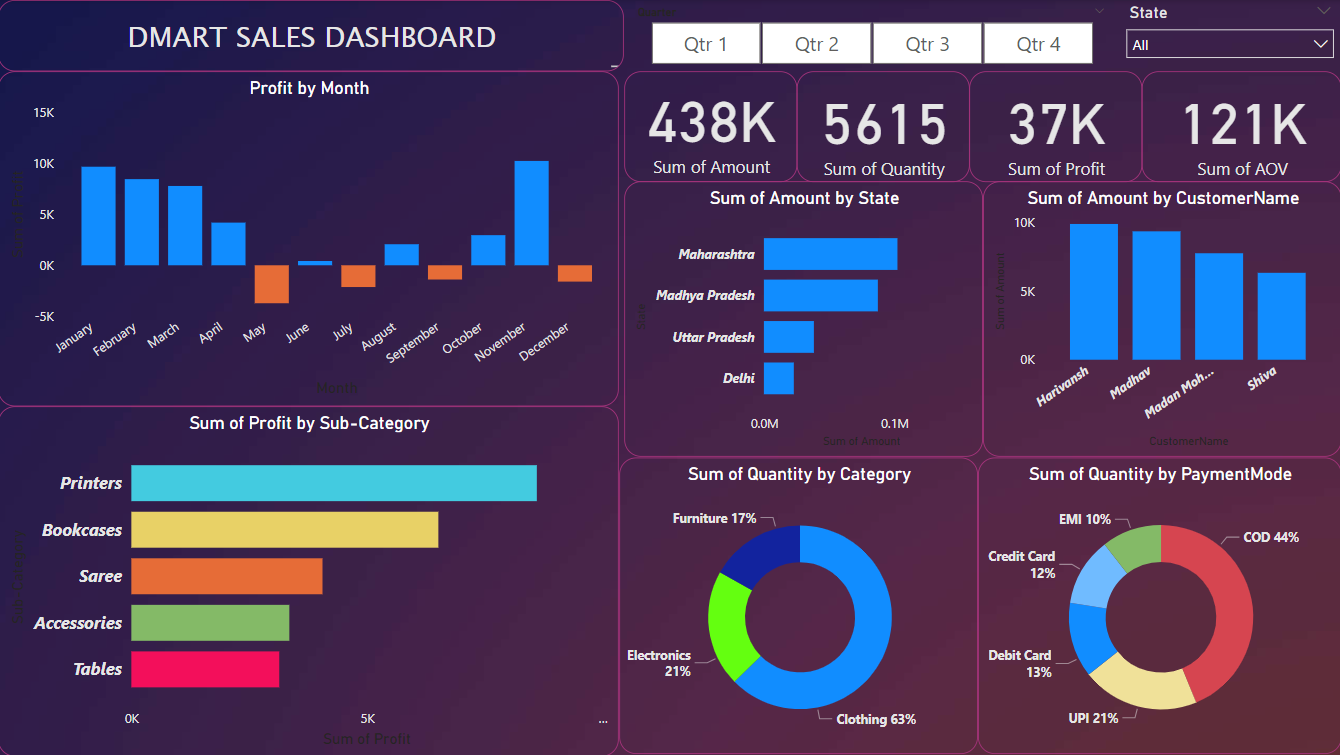

This screenshot's page, from the dashboard's own definition file:
{"tool":"powerbi","page":{"name":"Page 1","canvas":[1280,720],"ordinal":0},"visuals":[{"type":"columnChart","title":"Profit by Month","fields":{"Category":["Orders.Order Date.Variation.Date Hierarchy.Month"],"Y":["Details.Profit"]},"box":[0,67.8,591.5,318.9],"z":0},{"type":"barChart","fields":{"Category":["Details.Sub-Category"],"Y":["Details.Profit"]},"box":[0,386.7,591.5,333.3],"z":1000},{"type":"donutChart","fields":{"Category":["Details.Category"],"Y":["Details.Quantity"]},"box":[591.5,435.7,341.9,282.8],"z":2000},{"type":"donutChart","fields":{"Y":["Details.Quantity"],"Category":["Details.PaymentMode"]},"box":[933.5,435.7,346.3,282.8],"z":3000},{"type":"card","fields":{"Values":["Details.Amount"]},"box":[595.9,67.8,164.5,105.3],"z":4000},{"type":"card","fields":{"Values":["Details.Profit"]},"box":[924.8,67.8,164.5,105.3],"z":5000},{"type":"card","fields":{"Values":["Details.Quantity"]},"box":[760.3,67.8,164.5,105.3],"z":6000},{"type":"card","fields":{"Values":["Details.AOV"]},"box":[1089.3,67.8,190.4,105.3],"z":7000},{"type":"barChart","fields":{"Y":["Details.Amount"],"Category":["Orders.State"]},"box":[595.9,173.1,341.9,262.6],"z":8000},{"type":"columnChart","fields":{"Category":["Orders.CustomerName"],"Y":["Details.Amount"]},"box":[937.8,173.1,341.9,262.6],"z":9000},{"type":"textbox","title":"DMART SALES DASHBOARD","box":[0,0,595.9,67.8],"z":10000},{"type":"slicer","fields":{"Values":["Orders.Order Date.Variation.Date Hierarchy.Quarter"]},"box":[595.9,0,470.3,67.8],"z":11000},{"type":"slicer","fields":{"Values":["Orders.State"]},"box":[1066.2,0,213.5,67.8],"z":12000}]}

Visuals, with their boxes in screenshot pixels (x1, y1, x2, y2), scaled from the page's 1280x720 canvas onto the 1340x755 screenshot:
"Profit by Month" columnChart: crop(0, 71, 619, 405)
barChart - Details.Sub-Category x Details.Profit: crop(0, 405, 619, 754)
donutChart - Details.Category x Details.Quantity: crop(619, 457, 977, 753)
donutChart - Details.Quantity x Details.PaymentMode: crop(977, 457, 1339, 753)
card - Details.Amount: crop(624, 71, 796, 182)
card - Details.Profit: crop(968, 71, 1140, 182)
card - Details.Quantity: crop(796, 71, 968, 182)
card - Details.AOV: crop(1140, 71, 1339, 182)
barChart - Details.Amount x Orders.State: crop(624, 182, 982, 457)
columnChart - Orders.CustomerName x Details.Amount: crop(982, 182, 1339, 457)
"DMART SALES DASHBOARD" textbox: crop(0, 0, 624, 71)
slicer - Orders.Order Date.Variation.Date Hierarchy.Quarter: crop(624, 0, 1116, 71)
slicer - Orders.State: crop(1116, 0, 1339, 71)
